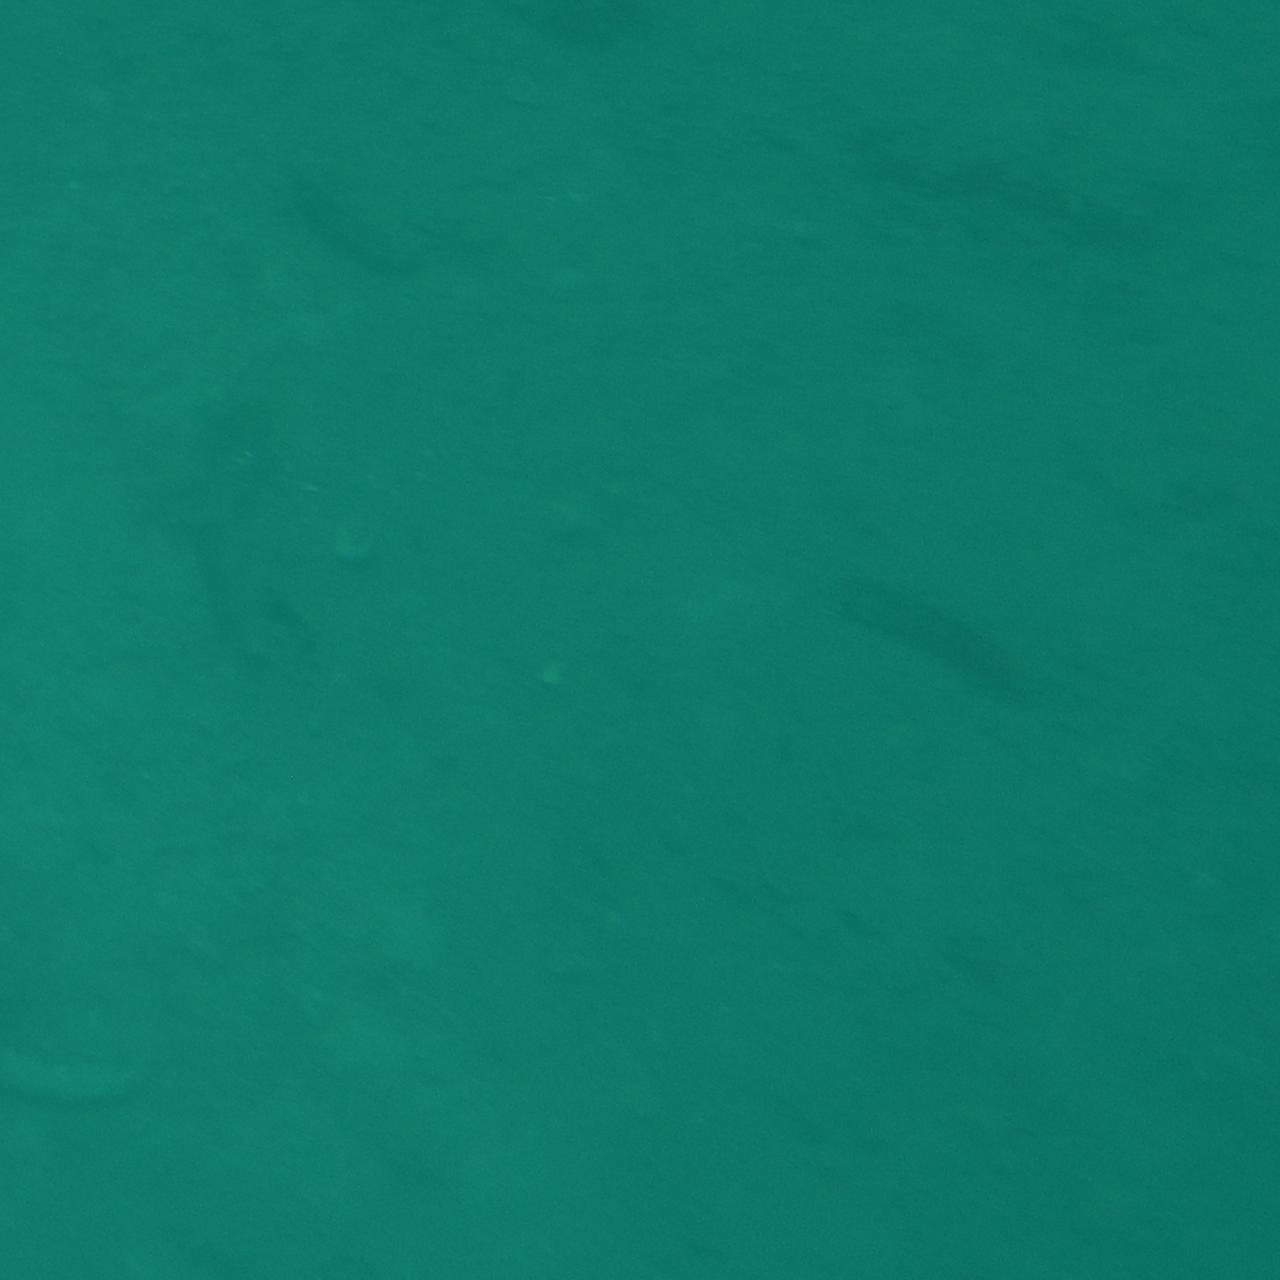Holothuria tubulosa: (822, 523, 1067, 757)
